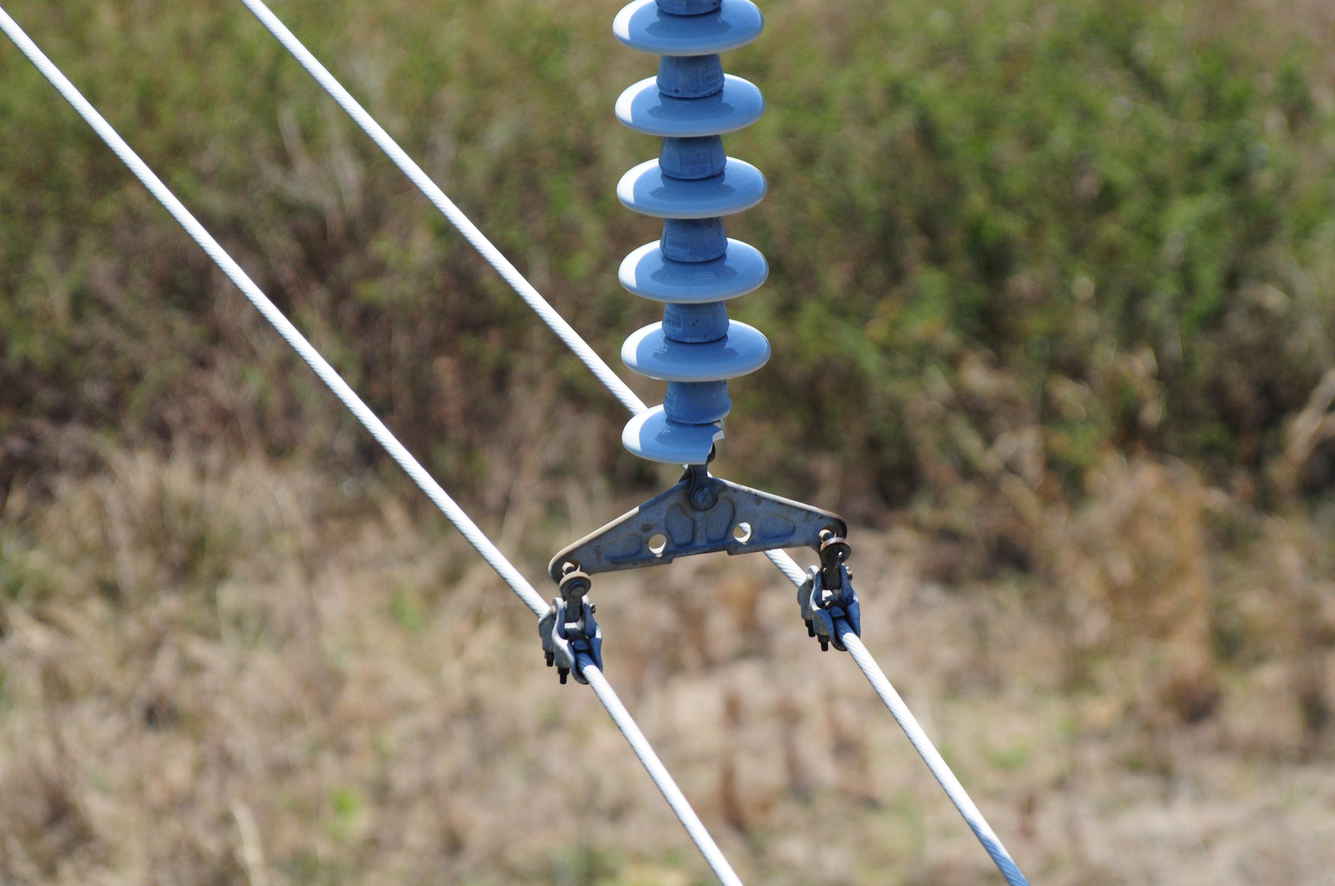damaged: (636, 395, 748, 470)
insulator: (608, 0, 767, 488)
